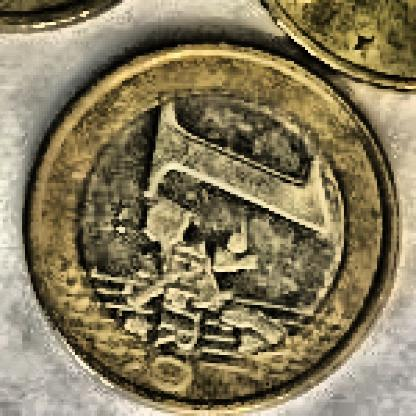coin: (22, 39, 400, 413)
